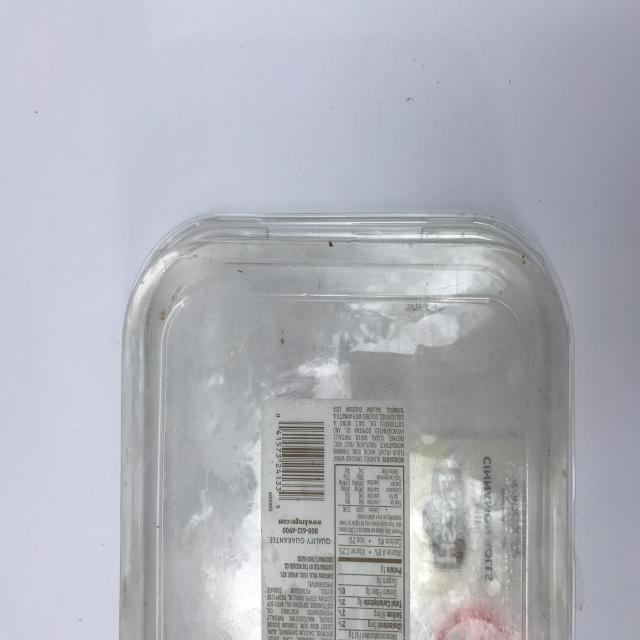plastic: (119, 212, 576, 640)
